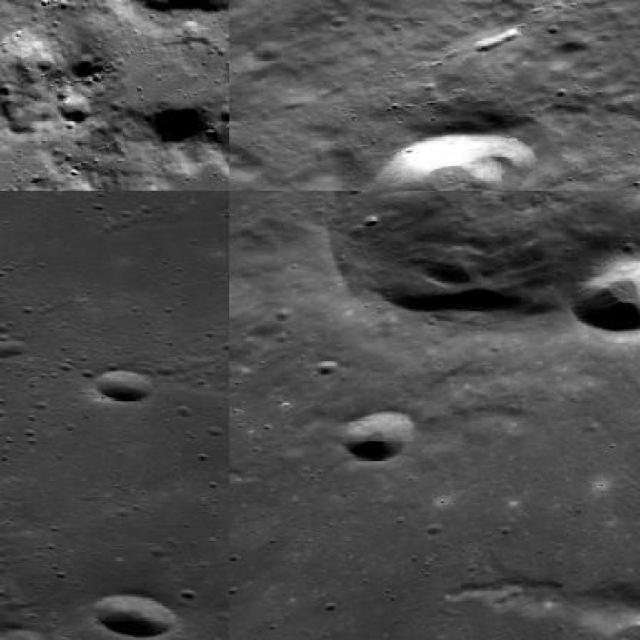crater: (330, 190, 638, 328), (365, 133, 529, 190), (571, 255, 638, 331), (91, 594, 177, 637), (342, 411, 416, 460), (92, 369, 156, 400)
